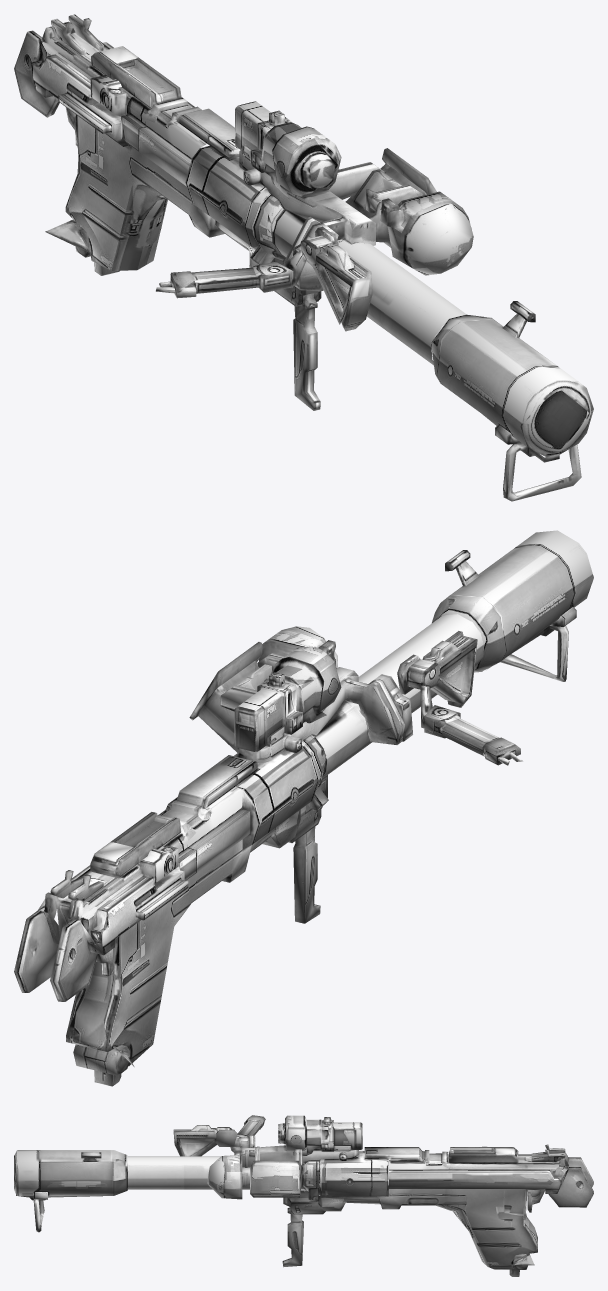
The picture shows the model from 3 angles, top to bottom: view 1: azimuth 30°, elevation 25°; view 2: azimuth 150°, elevation 25°; view 3: azimuth 270°, elevation 25°; orthographic projection. The views are drawn at different scales.
Visible parts, largest first — view 1: gun; view 2: gun; view 3: gun.
Part boxes in pixels (x1=…): gun: x1=14, y1=14, x2=593, y2=501; gun: x1=14, y1=530, x2=593, y2=1086; gun: x1=14, y1=1115, x2=593, y2=1276.
Size of the model in its own units: 0.8468 by 0.7757 by 2.59.
4 materials, 4 textured.
